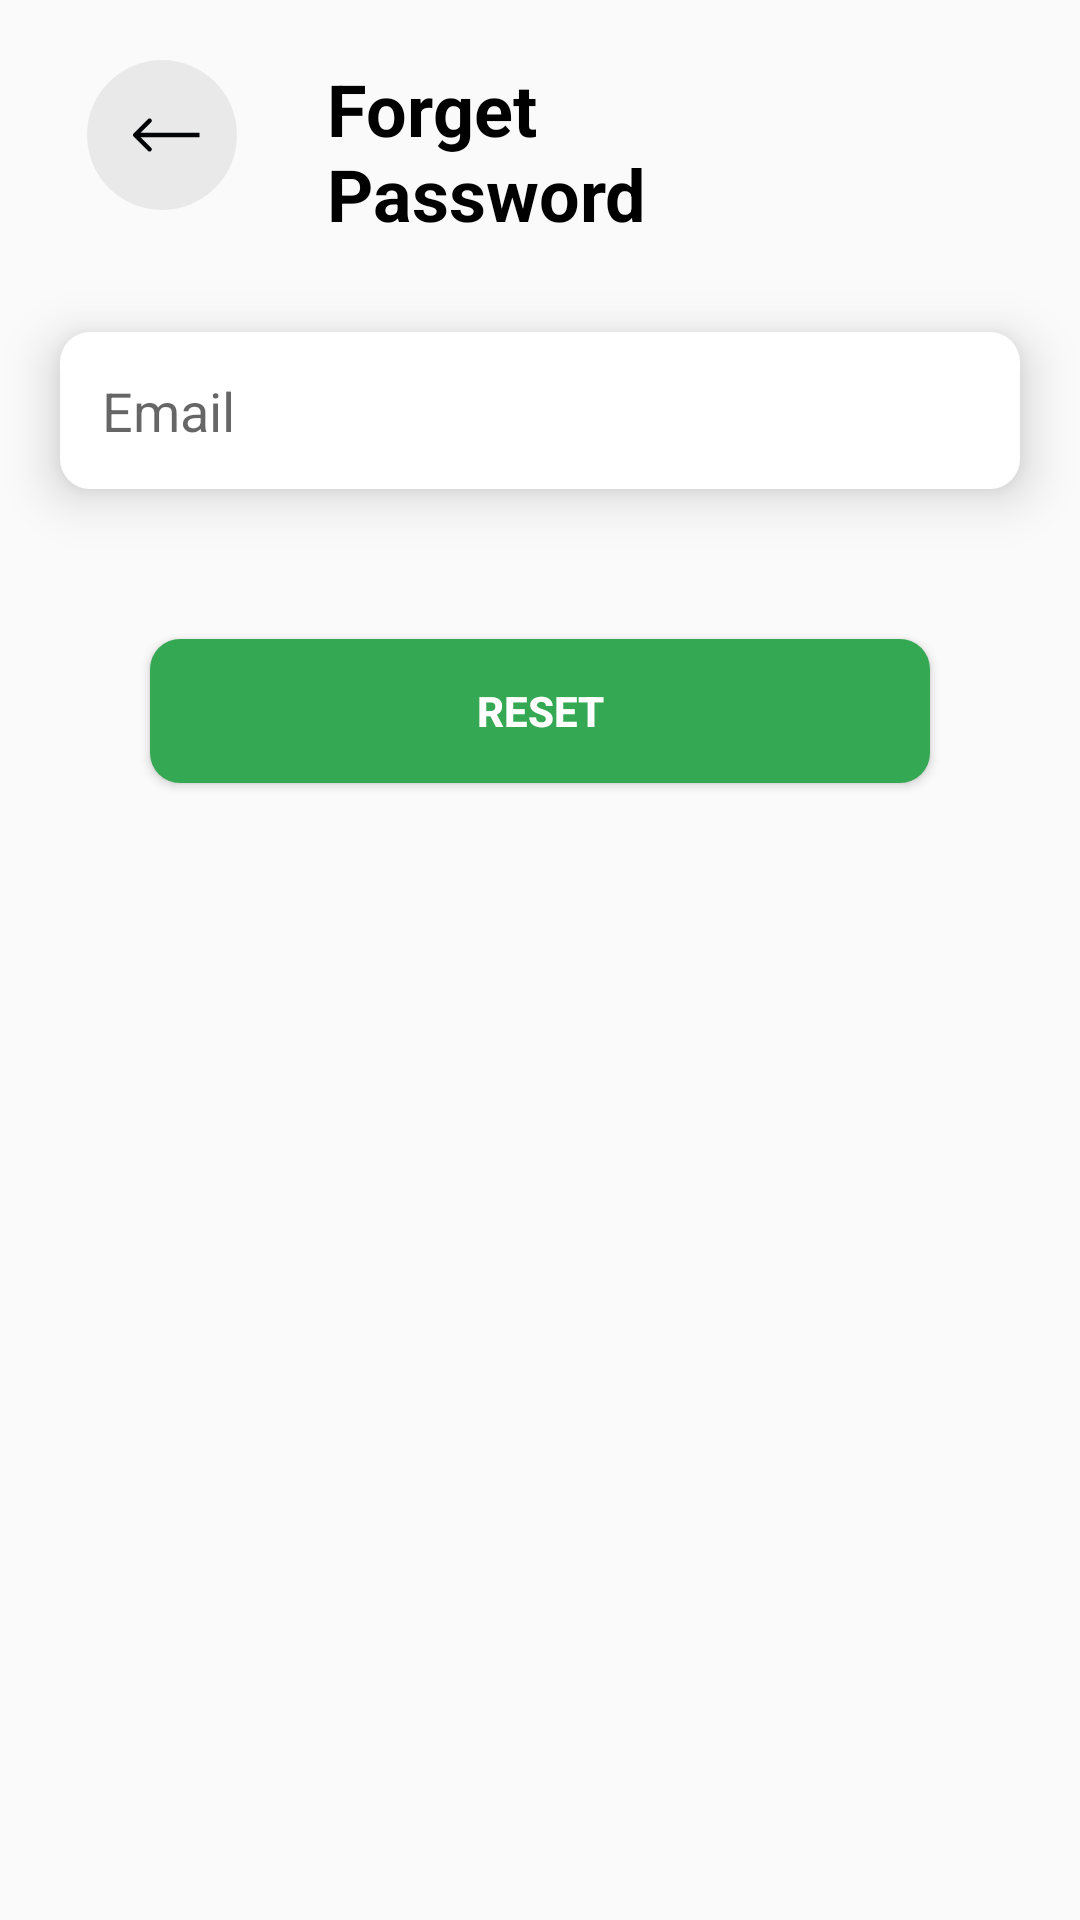

Icons on this 1080×1920 Android screen, each with its box as {"x1": x1, "y1": y1, "x2": x2, "y2": y2}:
back arrow: {"x1": 87, "y1": 60, "x2": 237, "y2": 210}
